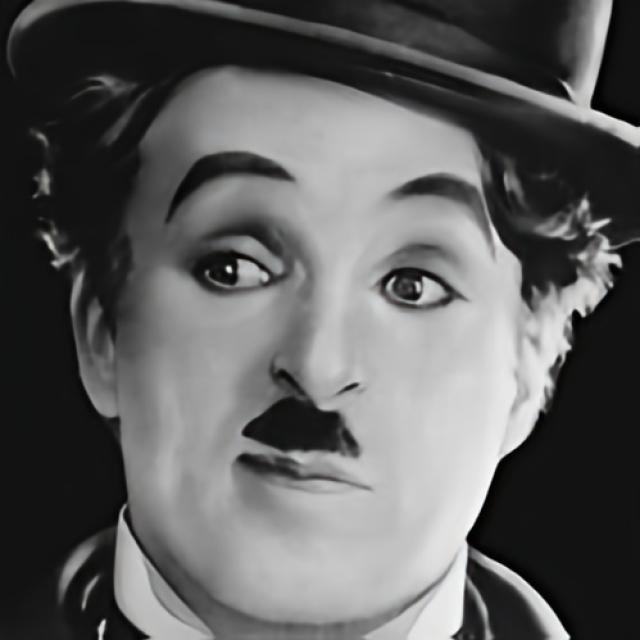surprise: (116, 69, 526, 626)
